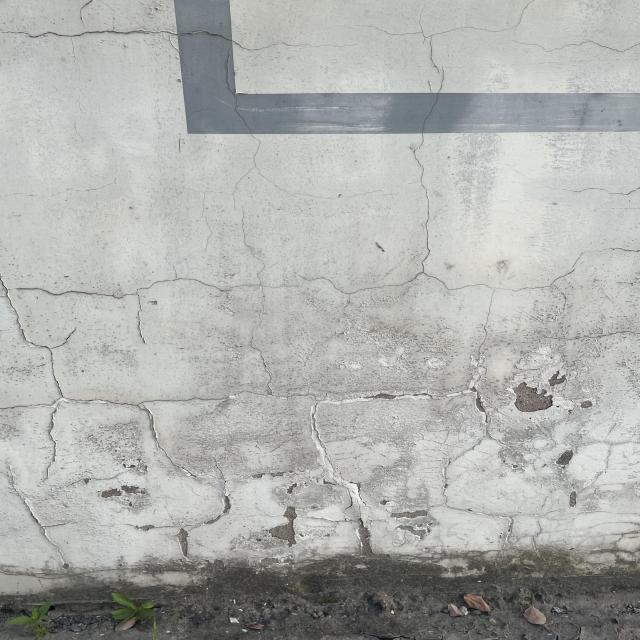crack: (5, 0, 640, 352), (0, 272, 239, 502), (0, 0, 363, 62)
damp: (262, 321, 462, 500)
mildew: (92, 543, 588, 590)
spalling: (72, 482, 246, 539), (470, 359, 609, 430), (251, 504, 465, 544)
